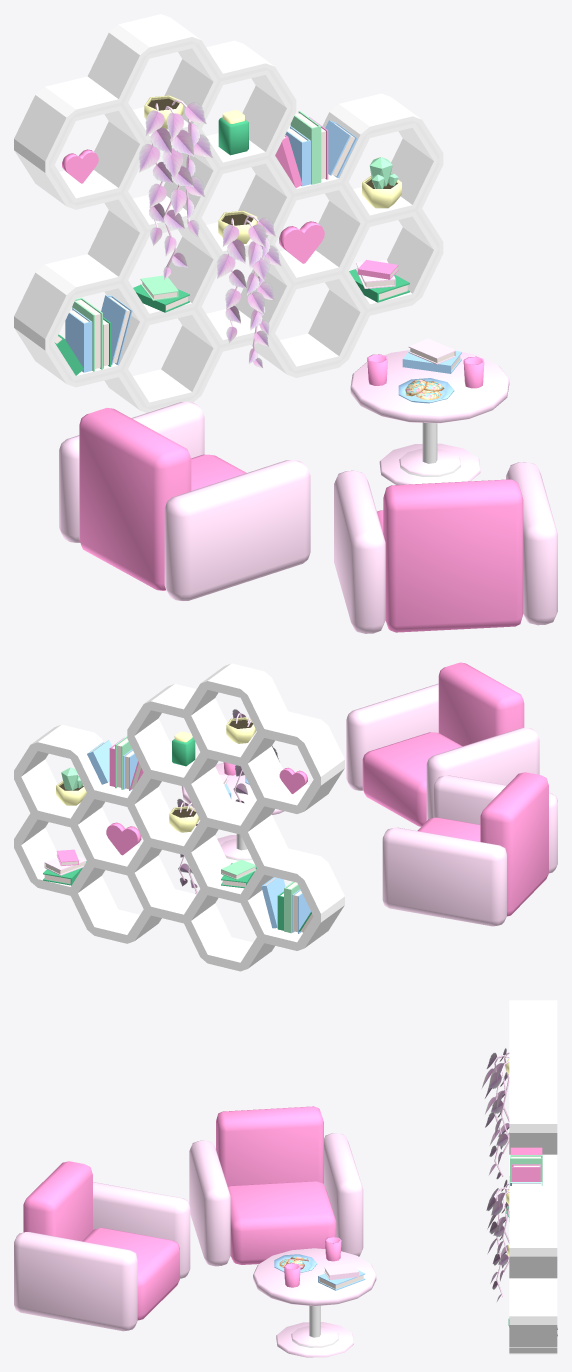
File: Platform2.glb
3 views of the same model, one above another, from view 1: azimuth 30°, elevation 25°; view 2: azimuth 150°, elevation 25°; view 3: azimuth 270°, elevation 25° (orthographic). The views are drawn at different scales.
Parts seen in each view (by area): view 1: Platform2; view 2: Platform2; view 3: Platform2.
Part boxes in pixels (x1,y1,x2,y2): Platform2: (14, 14, 557, 633); Platform2: (14, 662, 557, 971); Platform2: (14, 1000, 557, 1357).
Size of what is drawn, in the model's own units: 4.53 by 3.22 by 5.61.
Materials: 5 (5 with a texture image).
